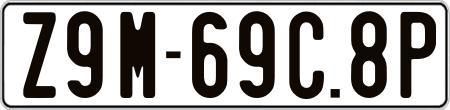6: (191, 9, 232, 96)
8: (350, 11, 388, 99)
9: (236, 11, 277, 98), (67, 10, 106, 99)
C: (288, 11, 325, 98)
M: (120, 9, 159, 95)
P: (400, 10, 438, 101)
Z: (21, 11, 57, 99)
